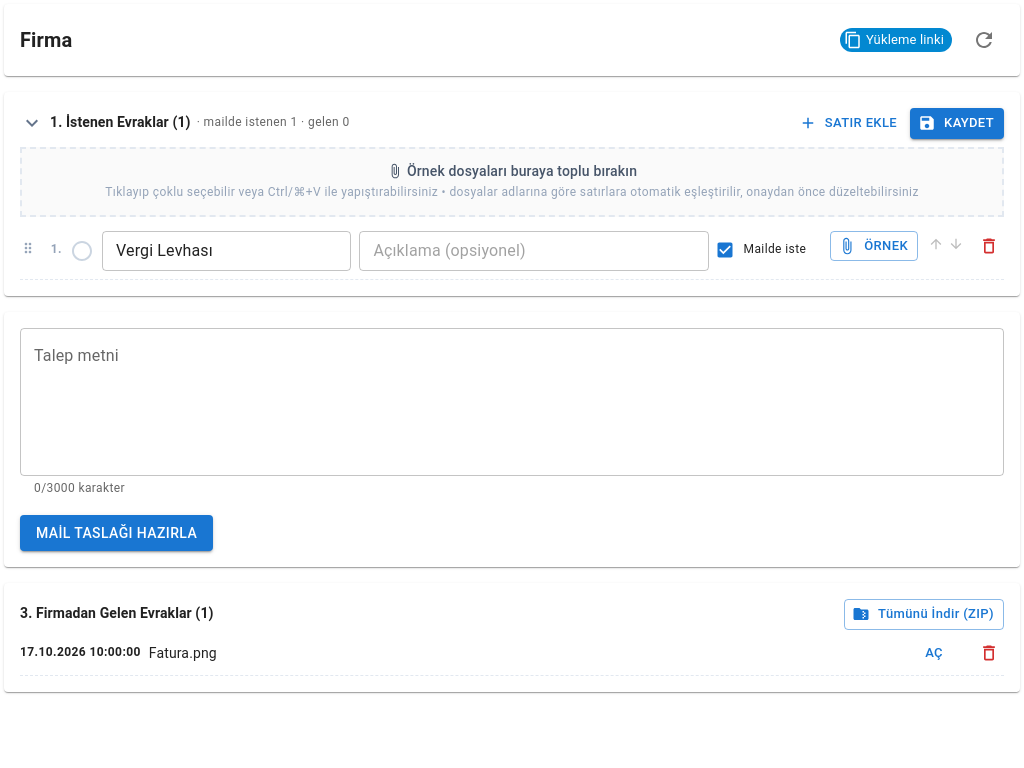
gelen evrakın Aç düğmesi dosyayı indirmeden uygulama içinde gösterir
The image size is (1024, 768).
Click the button with aria-label "Fatura.png önizle".
click(934, 653)  # box [902,638,966,669]
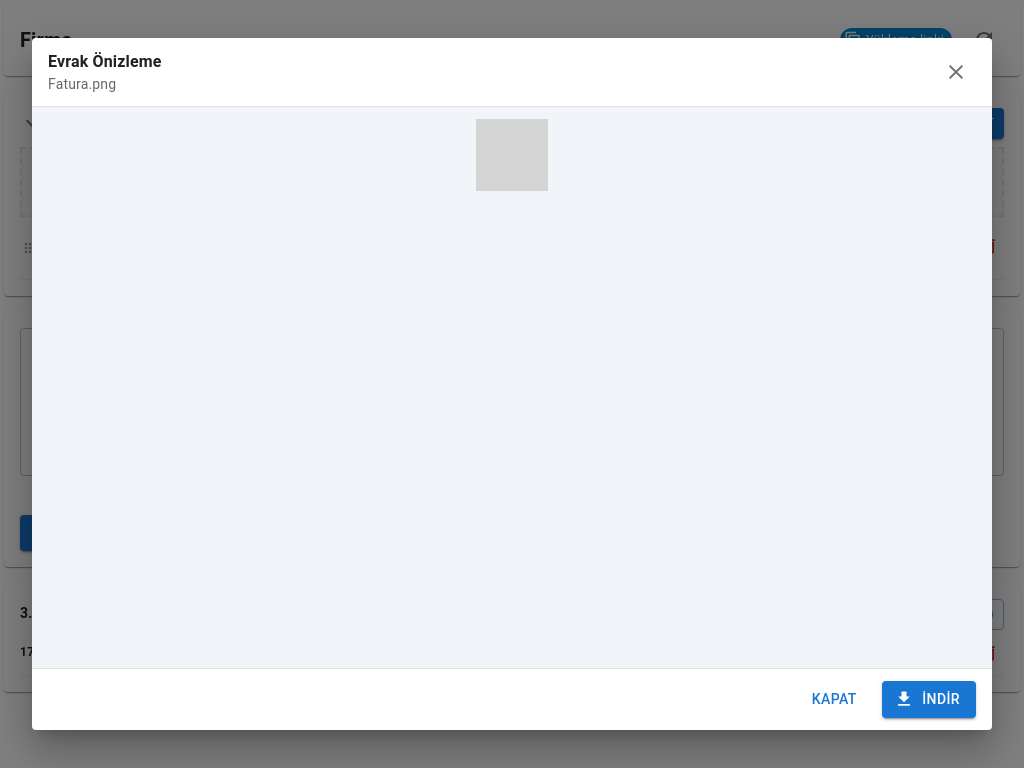
Expected: the dialog is shown
